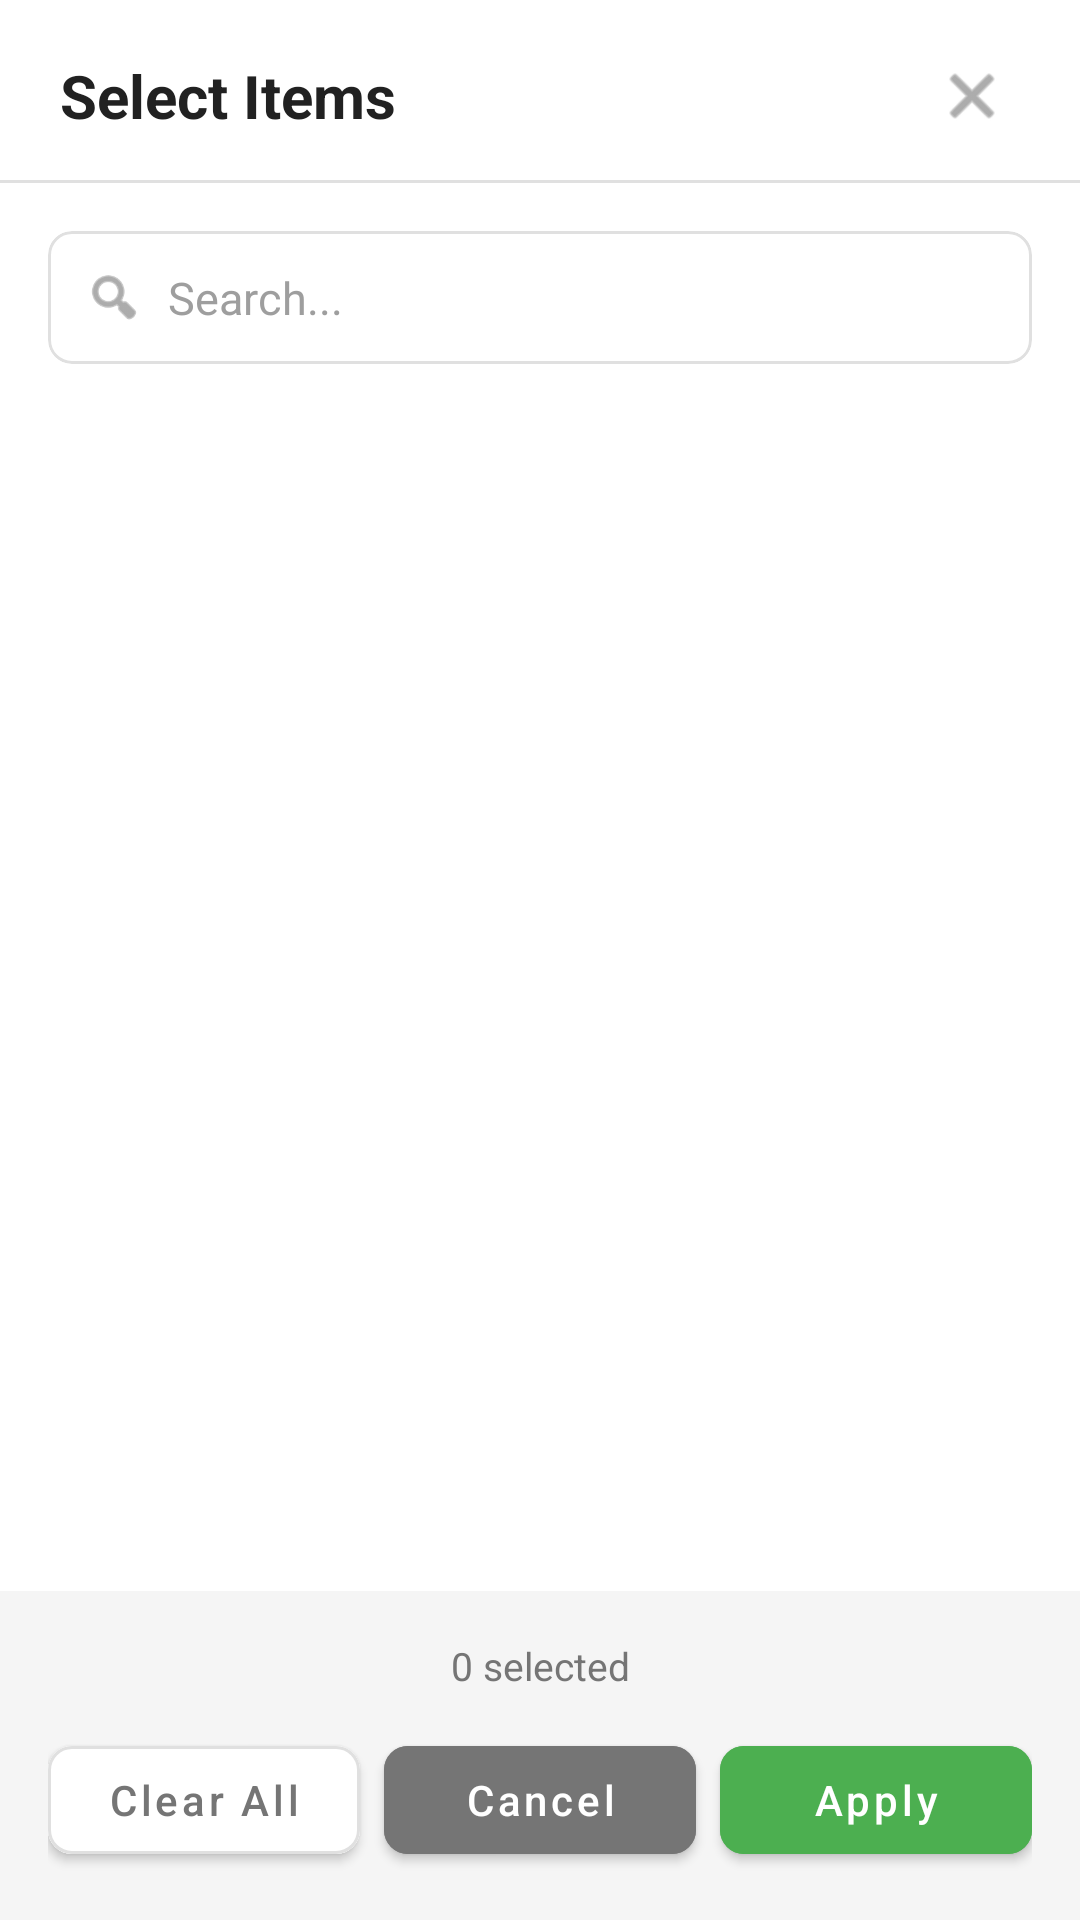

Named icons in this screenshot (1080w x 1920h) and their bounding boxes, BBox(x1, y1, x2, y2):
close clear cancel: BBox(950, 74, 994, 118)
